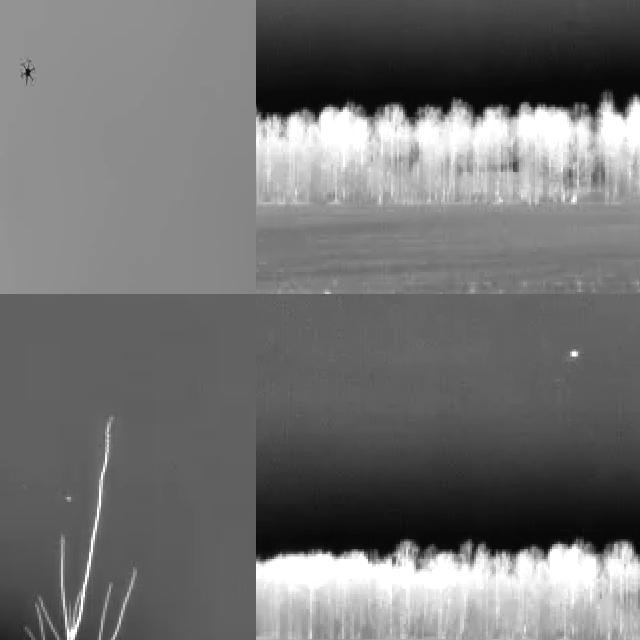0: (59, 488, 81, 511)
1: (564, 342, 590, 366)
drone: (16, 55, 39, 90)
